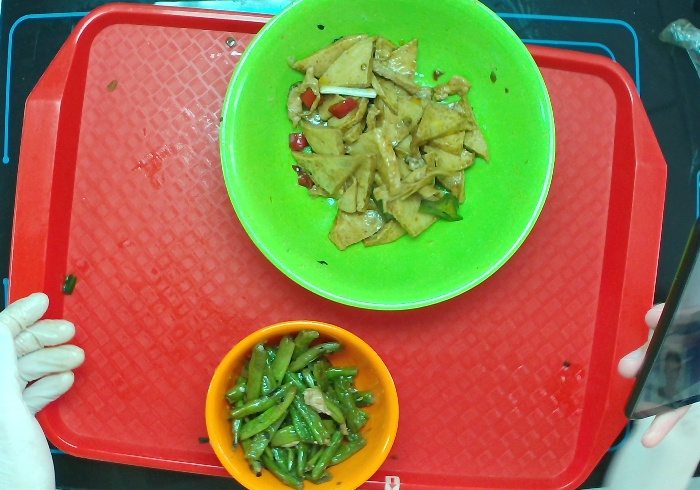YKMZ-Ju_Se_Yuan_Wan: (193, 312, 408, 490)
YKMZ-Lv_Se_Tang_Wan: (213, 1, 560, 323)
